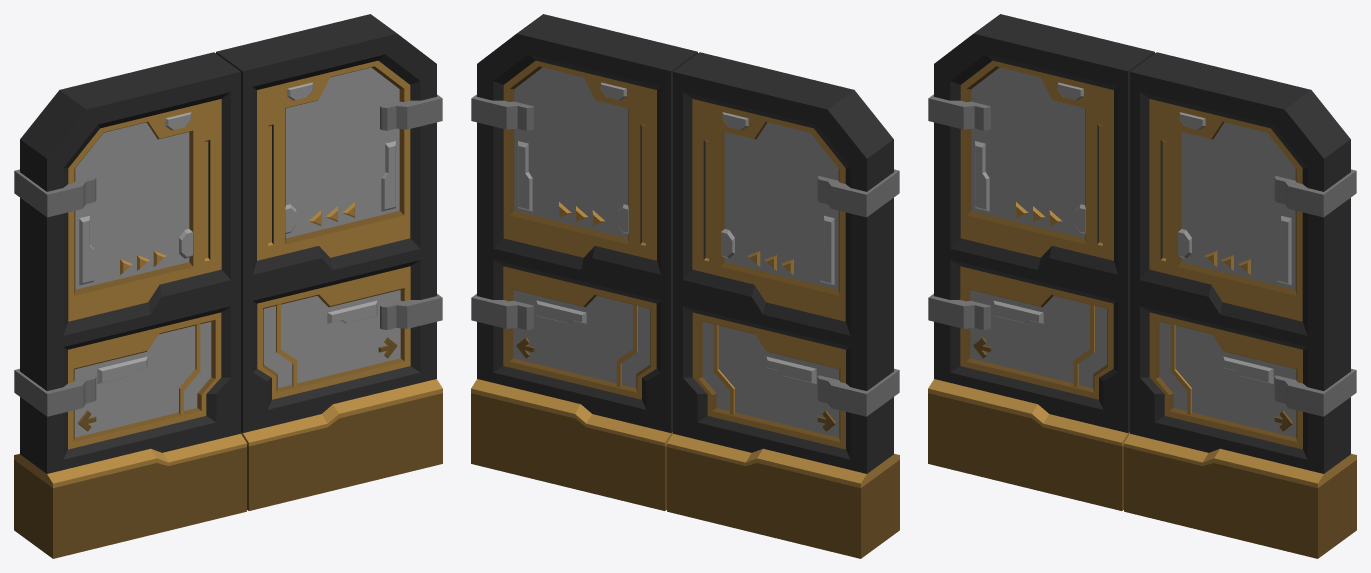
Rendered from Door_Double.glb.
The picture shows the model from 3 angles, left to right: view 1: azimuth 30°, elevation 25°; view 2: azimuth 150°, elevation 25°; view 3: azimuth 330°, elevation 25°; orthographic projection.
Visible parts, largest first — view 1: Door_Double; view 2: Door_Double; view 3: Door_Double.
Part boxes in pixels (x1,y1,x2,y2): Door_Double: (14,14,442,558); Door_Double: (471,14,899,558); Door_Double: (928,14,1356,558).
Bounding box in the file's own units: 0.9019 × 0.949 × 0.1544.
